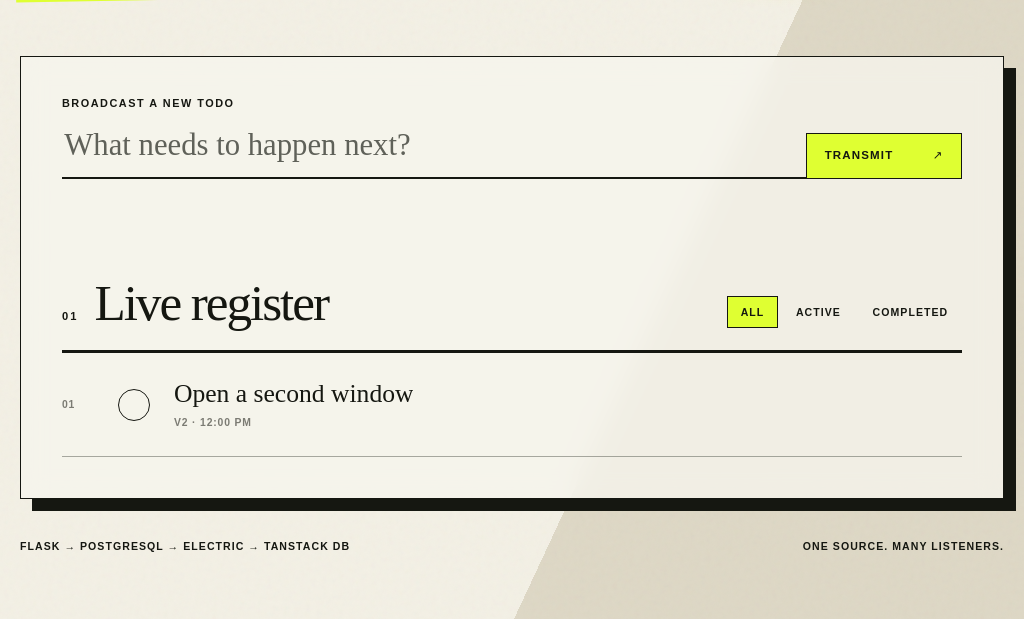
live Todo register › shows a rolled-back toggle error
(page scrolled)
Step 1. Click the button named "Complete Open a second window" → click(134, 405), box [118, 389, 150, 421]
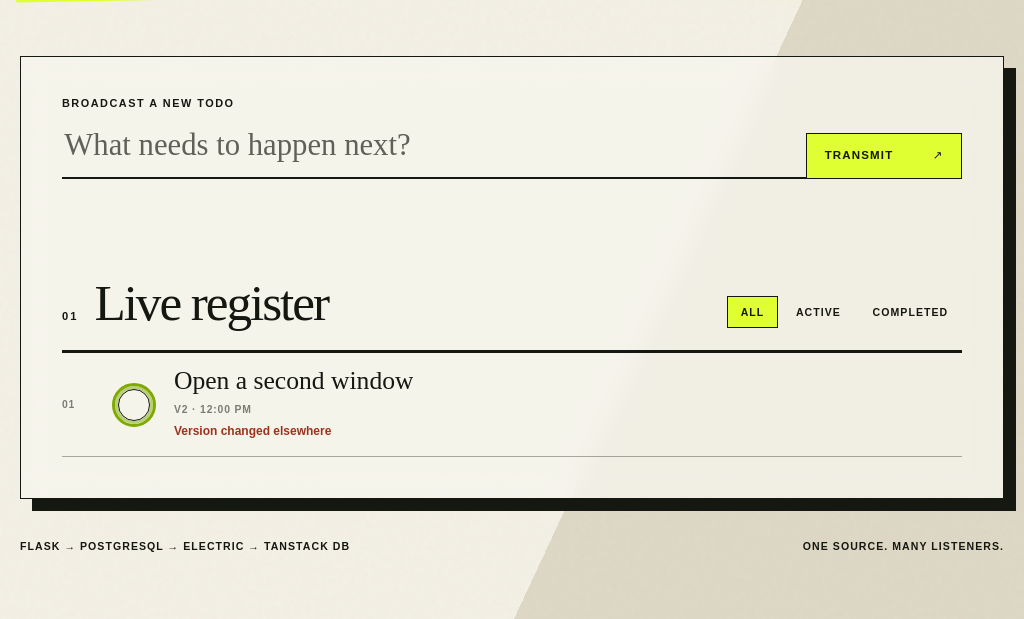
Expected: the text "Version changed elsewhere" is shown, [174, 424, 331, 438]
